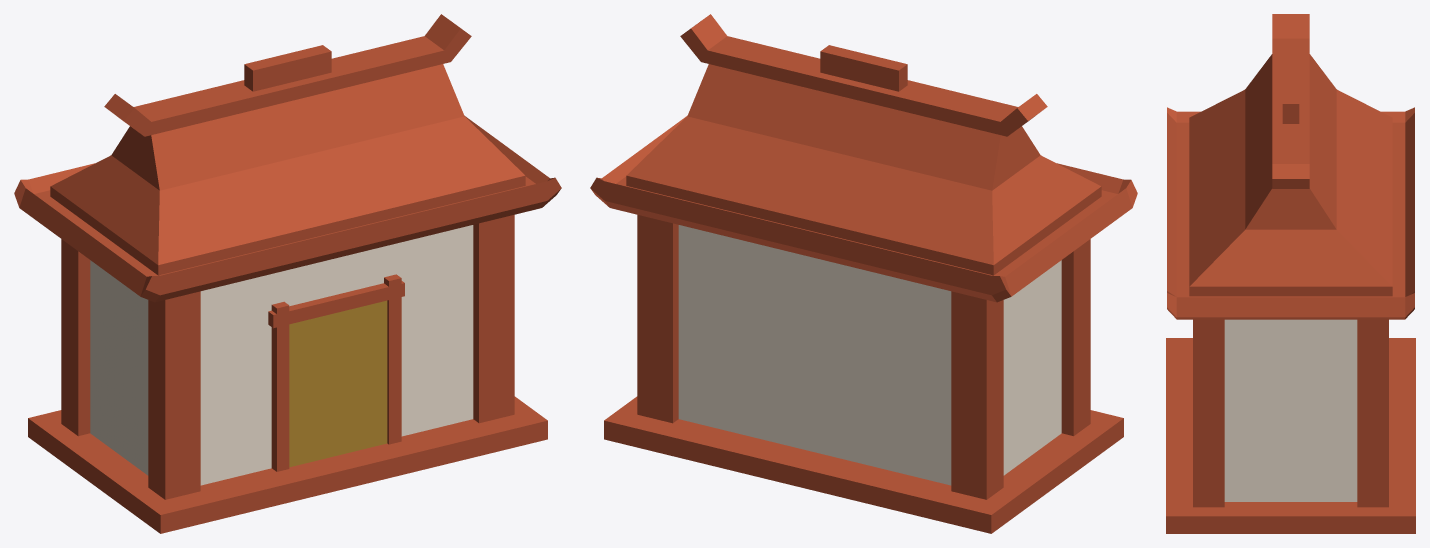
Rendered from Monk_House.fbx.
3 renders of one model, left to right at view 1: azimuth 30°, elevation 25°; view 2: azimuth 150°, elevation 25°; view 3: azimuth 270°, elevation 25°, orthographic. The views are drawn at different scales.
Parts seen in each view (by area): view 1: Monk_House_Geo; view 2: Monk_House_Geo; view 3: Monk_House_Geo.
Boxes of the visible parts, x1,y1,x2,y2 form: Monk_House_Geo: [14, 14, 561, 533]; Monk_House_Geo: [590, 14, 1137, 533]; Monk_House_Geo: [1166, 14, 1415, 533].
Bounding box in the file's own units: 113 × 99.03 × 62.53.
